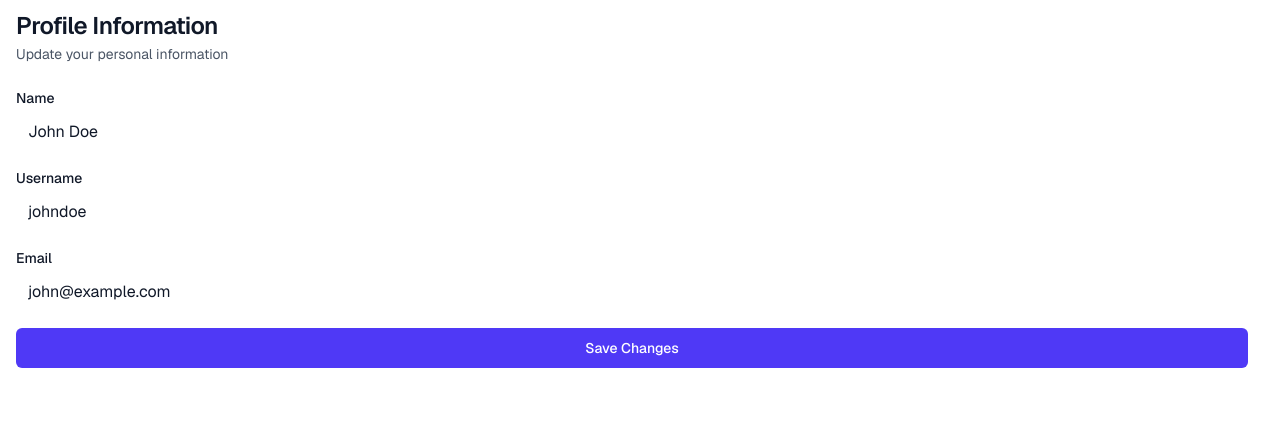
Test case: ProfileInformationUpdateClient › should show error when email is empty
Step 1. Clear the field labelled "Email" → [632, 292], box [16, 272, 1248, 312]
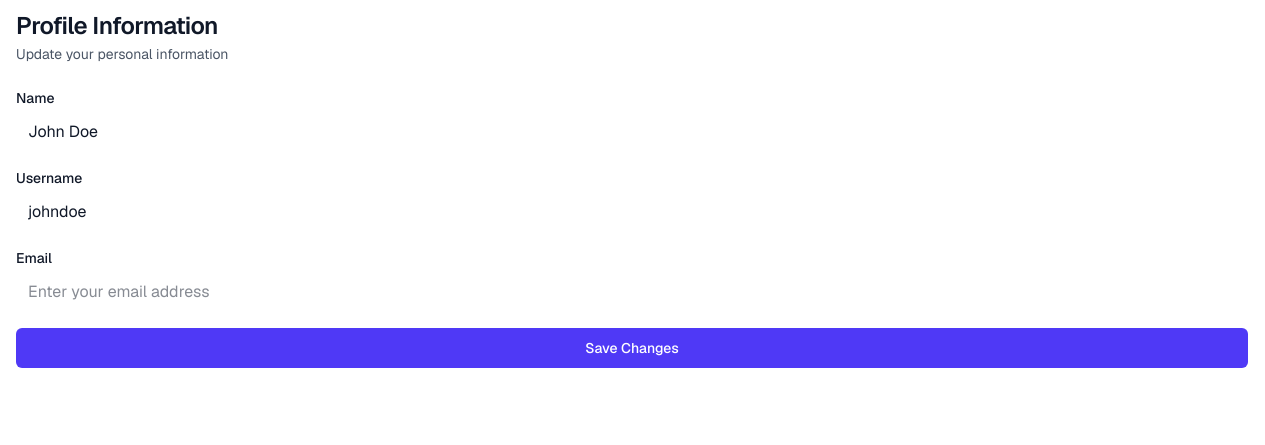
Step 2. Submit the form "Name Username Email Save Changes"
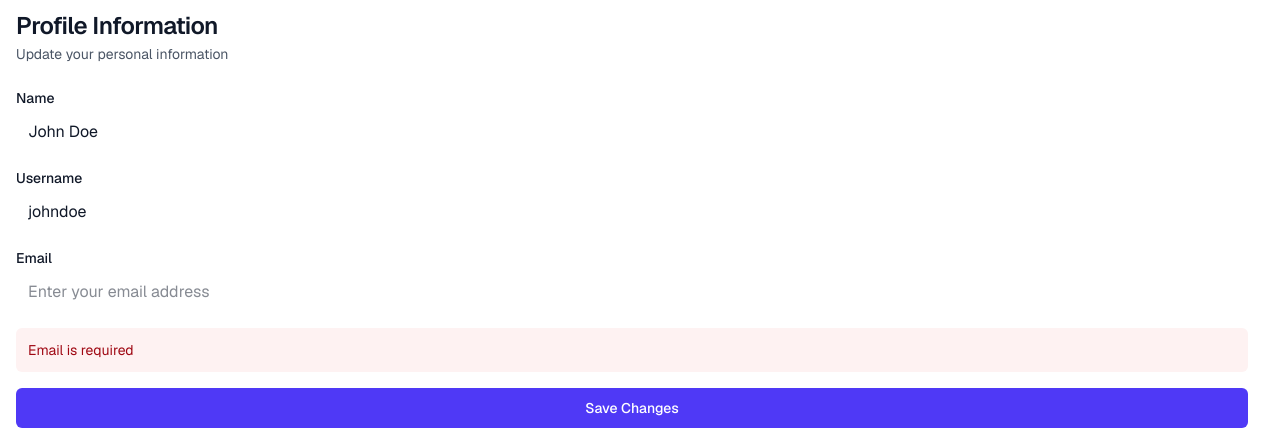
Expected: the text "Email is required" is shown, [28, 341, 134, 359]
